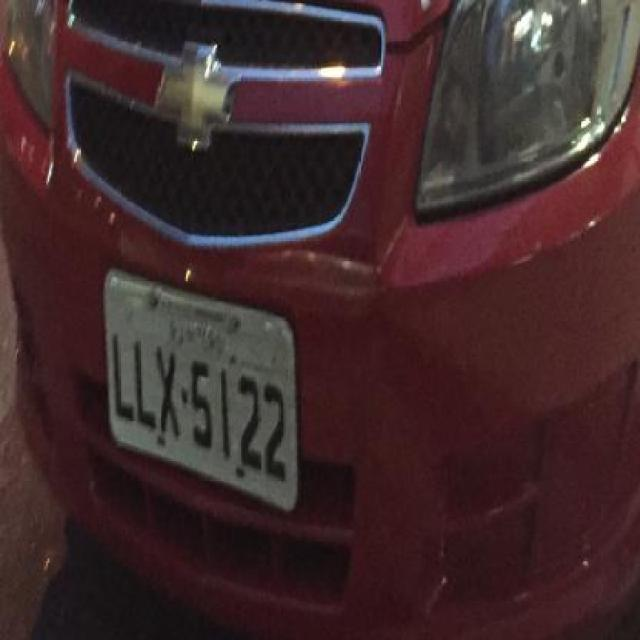old_plate: (95, 265, 308, 522)
